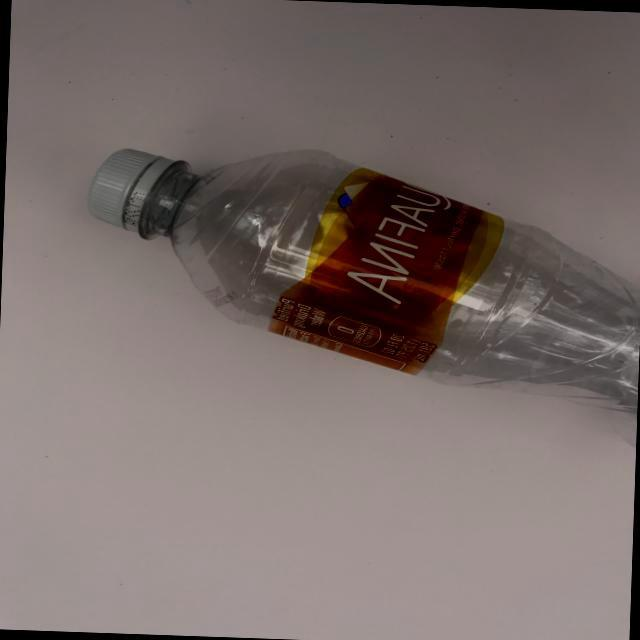plastic: (78, 111, 640, 448)
